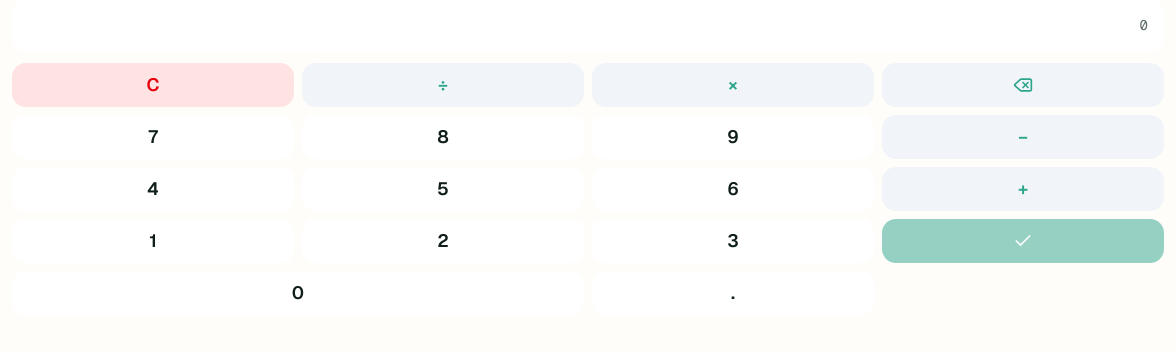
Test: Calculator Component › operations › should calculate subtraction
This screenshot has width=1176, height=353.
Click the button "9" at (733, 137), box [592, 115, 874, 159]
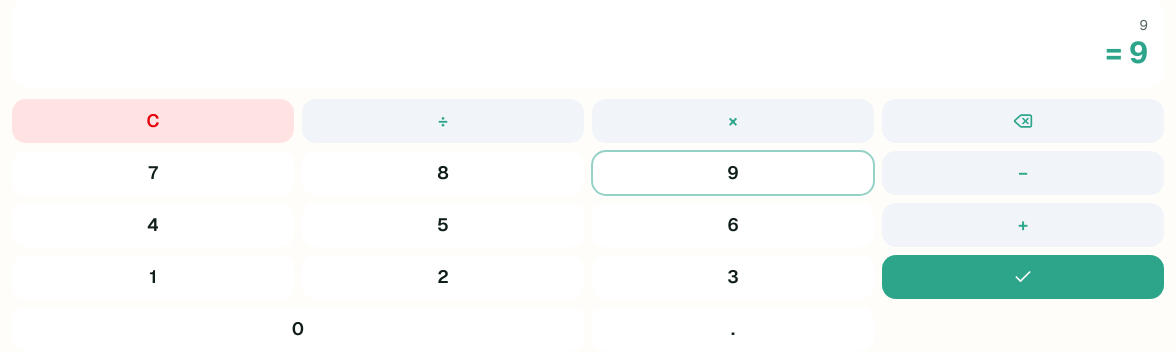
Click the button "−" at (1023, 173), box [882, 151, 1164, 195]
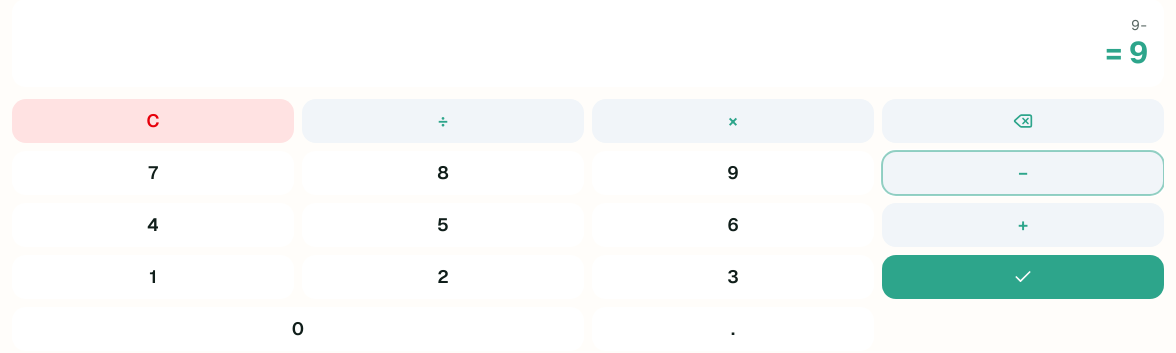
Click the button "4" at (153, 225), box [12, 203, 294, 247]
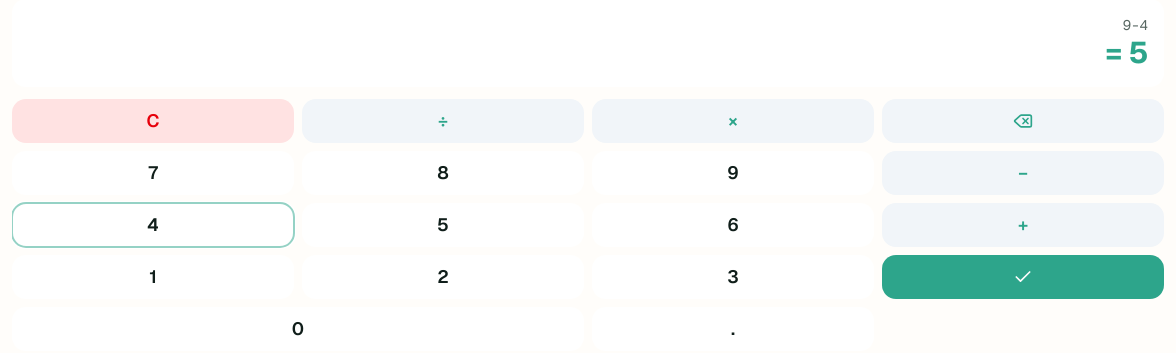
Expected: the text "9-4" is shown, [1123, 16, 1148, 34]
Expected: the text "= 5" is shown, [1106, 33, 1148, 72]
